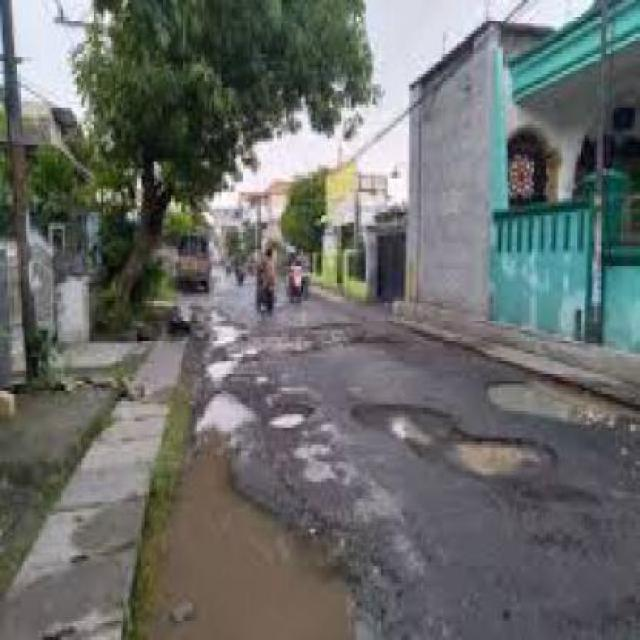pothole: (344, 390, 558, 485), (479, 368, 638, 424), (259, 394, 313, 428)
